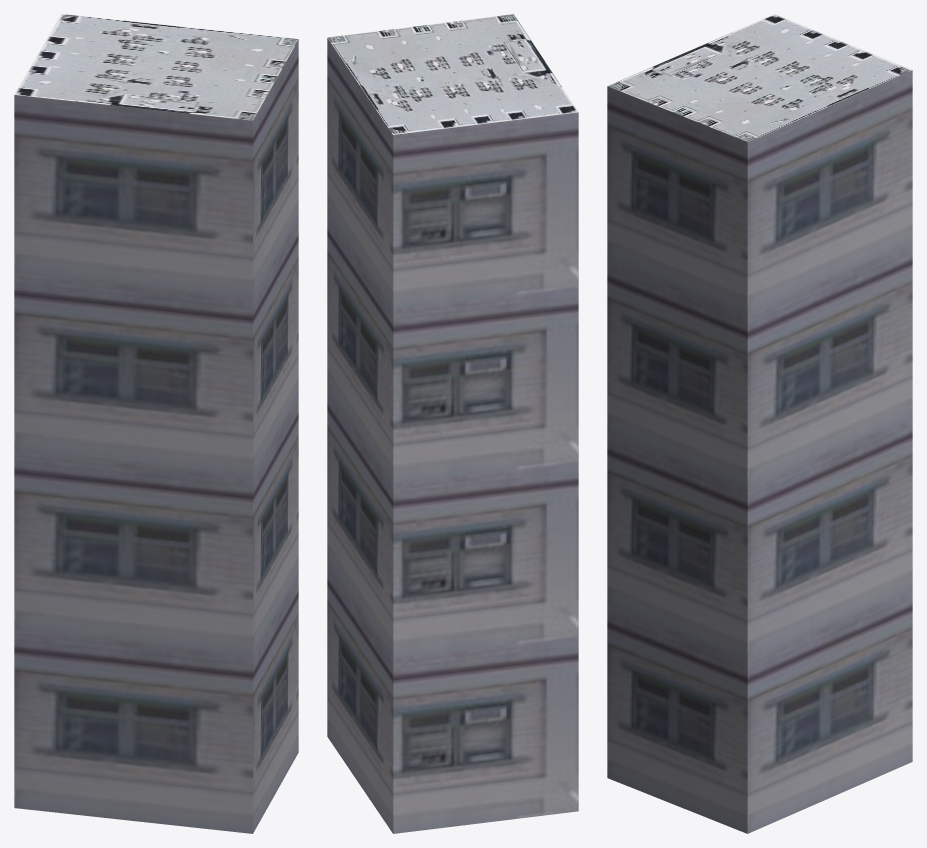
File: ResTex__4966.fbx
3 renders of one model, left to right at view 1: azimuth 30°, elevation 25°; view 2: azimuth 150°, elevation 25°; view 3: azimuth 270°, elevation 25°, orthographic. The views are drawn at different scales.
Visible parts, largest first — view 1: CityEngineMaterial_1_m, CityEngineMaterial_m; view 2: CityEngineMaterial_1_m, CityEngineMaterial_m; view 3: CityEngineMaterial_1_m, CityEngineMaterial_m.
Boxes of the visible parts, bbox=[...] form: CityEngineMaterial_1_m: bbox=[14, 40, 298, 833]; CityEngineMaterial_m: bbox=[14, 14, 298, 120]; CityEngineMaterial_1_m: bbox=[327, 38, 578, 833]; CityEngineMaterial_m: bbox=[327, 14, 578, 134]; CityEngineMaterial_1_m: bbox=[607, 70, 912, 833]; CityEngineMaterial_m: bbox=[608, 14, 911, 141].
Bounding box in the file's own units: 4.76 × 12 × 4.8.
Materials: 2 (2 with a texture image).
